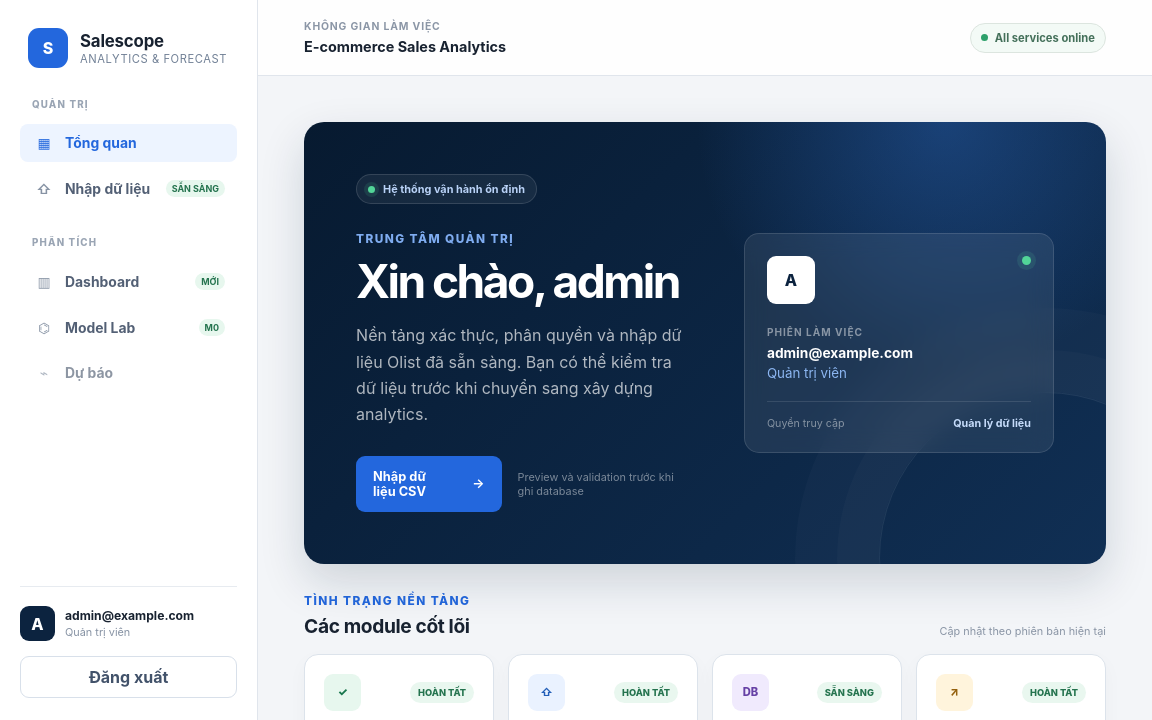
authentication flow › restores a session and clears it on logout
Expected: the heading "Xin chào, admin" is shown, 356,258 -> 686,304
What coordinates should you click on to do the following:
click the button "Đăng xuất"
I would click on:
 (128, 677)
Its box is 20,656 -> 237,698.
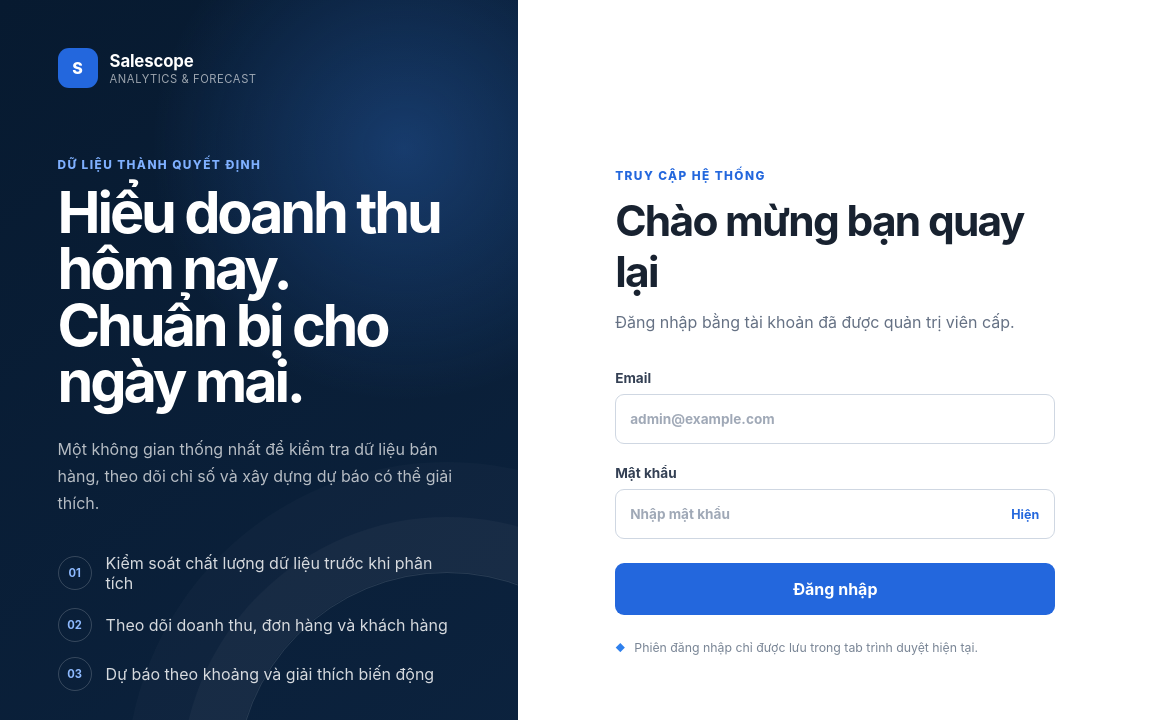
Expected: the heading "Chào mừng bạn quay lại" is shown, 615,195 -> 1055,297
